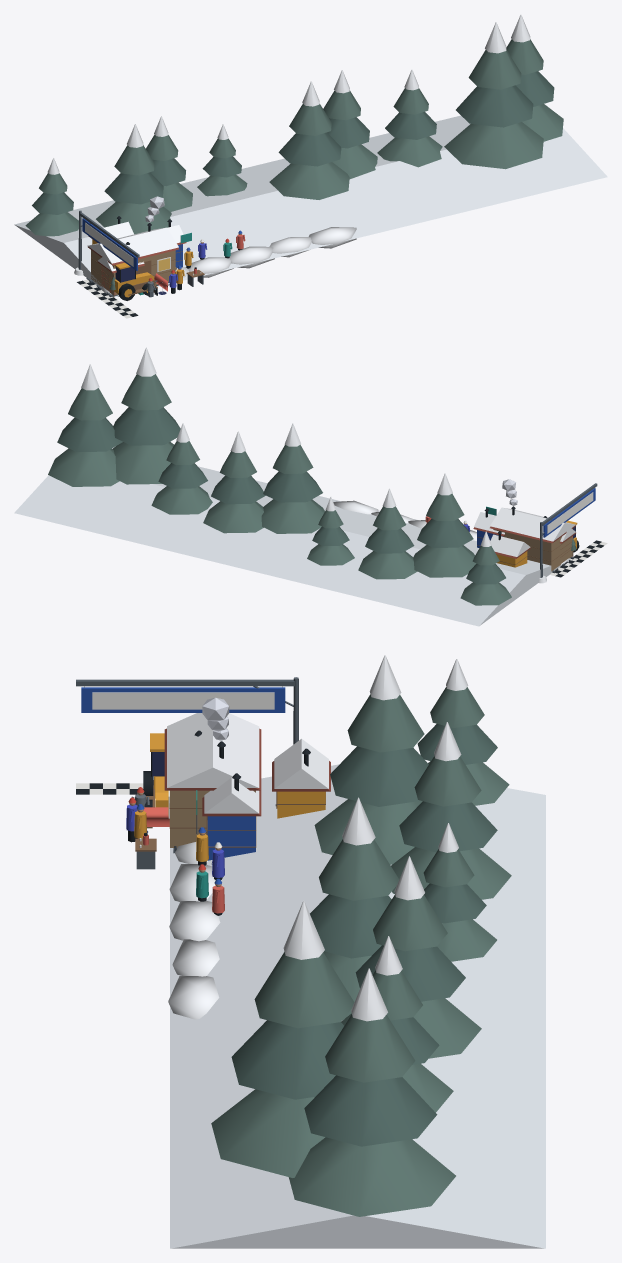
The model's file is lake.glb.
The picture shows the model from 3 angles, top to bottom: view 1: azimuth 30°, elevation 25°; view 2: azimuth 150°, elevation 25°; view 3: azimuth 270°, elevation 25°; orthographic projection. The views are drawn at different scales.
Visible parts, largest first — view 1: ShorePines, WarmingHut, Snowbank, StartBanner, Shacks, Plough, Crowd; view 2: ShorePines, WarmingHut, StartBanner, Shacks, Snowbank; view 3: ShorePines, WarmingHut, StartBanner, Shacks, Snowbank, Plough, Crowd.
Part boxes in pixels (x1,y1,x2,y2): ShorePines: (14,14,607,297); WarmingHut: (86,196,204,300); Snowbank: (101,227,356,296); StartBanner: (74,210,139,318); Shacks: (88,216,186,297); Plough: (109,263,167,300); Crowd: (180,230,245,268); ShorePines: (14,347,570,626); WarmingHut: (490,479,577,573); StartBanner: (538,483,607,583); Shacks: (473,508,575,567); Snowbank: (333,500,568,565); ShorePines: (170,655,545,1248); WarmingHut: (126,697,261,869); StartBanner: (76,677,298,794); Shacks: (131,730,330,864); Snowbank: (168,842,220,1019); Plough: (143,733,169,826); Crowd: (196,790,224,915).
Size of the model in its own units: 41.49 by 12.04 by 17.5.
